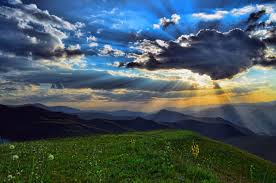field: (6, 141, 276, 182)
mountain: (4, 101, 275, 138)
sky: (2, 3, 275, 103)
